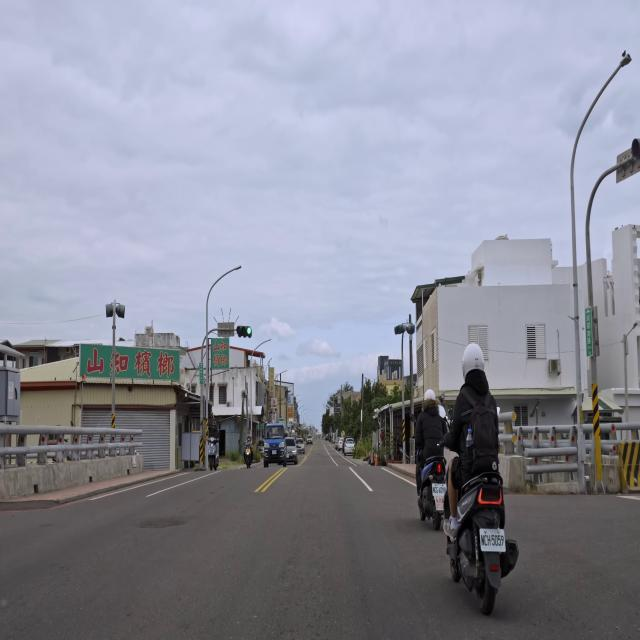green light: (237, 324, 252, 339)
